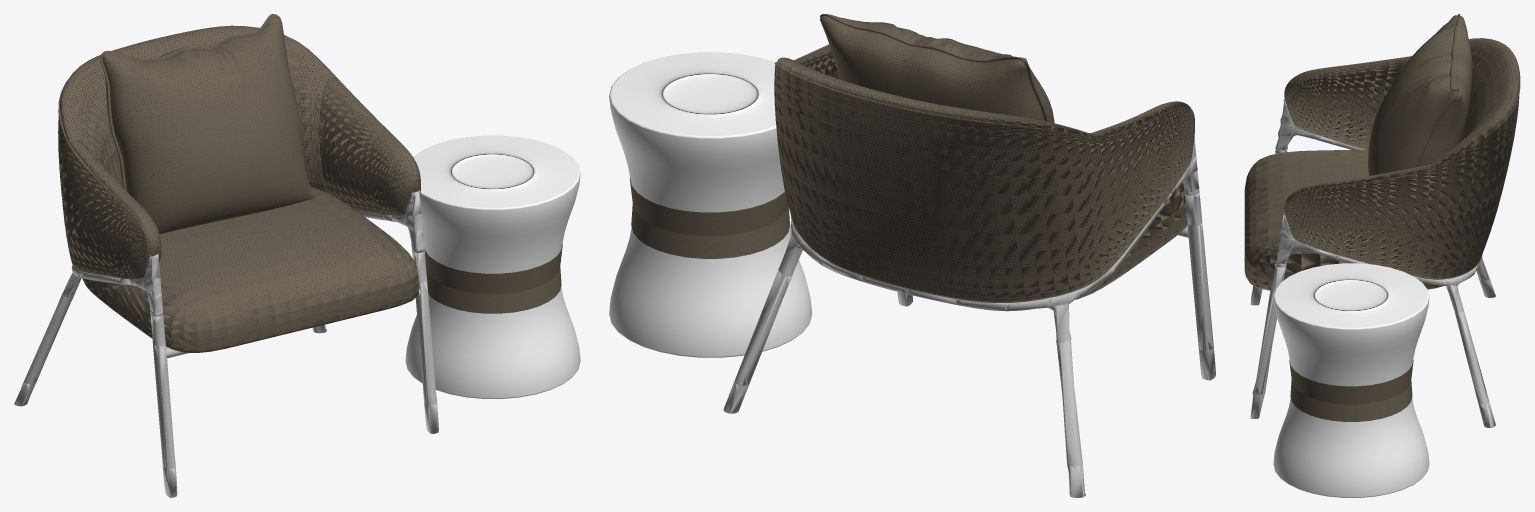
The model's file is Readchair.glb.
3 views of the same model, side by side, from view 1: azimuth 30°, elevation 25°; view 2: azimuth 150°, elevation 25°; view 3: azimuth 270°, elevation 25° (orthographic). The views are drawn at different scales.
Visible parts, largest first — view 1: bake_bedroom_texture_scene_Readchair; view 2: bake_bedroom_texture_scene_Readchair; view 3: bake_bedroom_texture_scene_Readchair.
Part boxes in pixels (x1,y1,x2,y2): bake_bedroom_texture_scene_Readchair: (14,14,580,497); bake_bedroom_texture_scene_Readchair: (609,14,1215,497); bake_bedroom_texture_scene_Readchair: (1244,14,1520,497).
Size of what is drawn, in the model's own units: 1.11 by 0.7796 by 0.6281.
5 materials, 3 textured.
